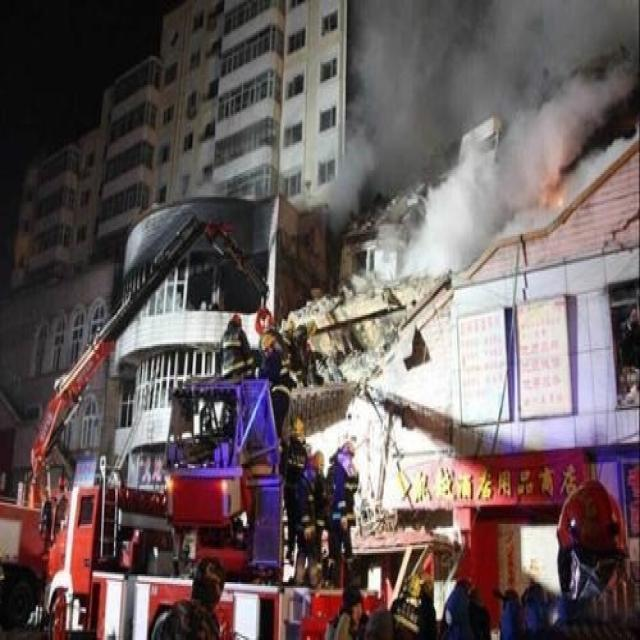Smoke: (321, 2, 640, 280)
